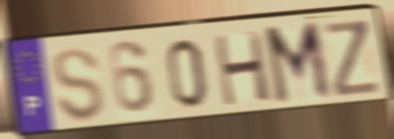0: (164, 36, 213, 113)
6: (109, 37, 157, 123)
H: (210, 29, 274, 109)
M: (261, 18, 335, 109)
S: (50, 45, 107, 124)
Z: (321, 16, 384, 100)
